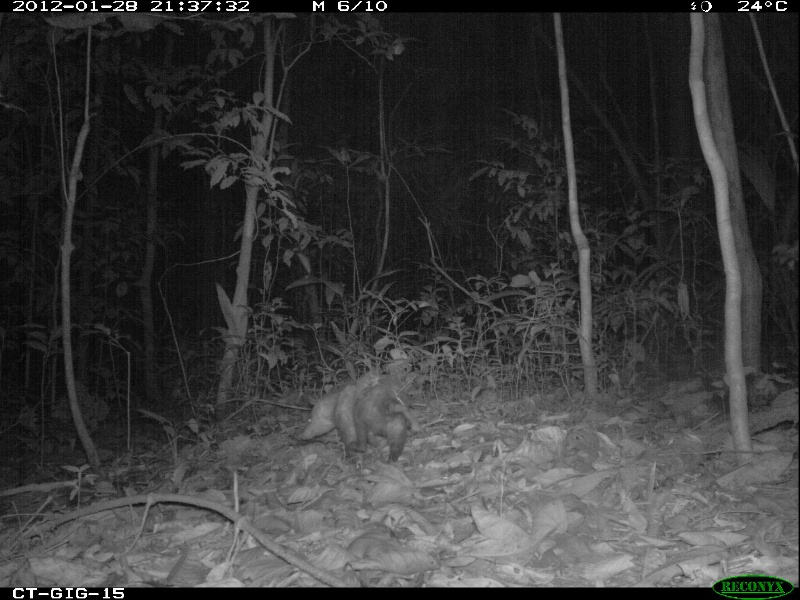opossum: (294, 373, 426, 462)
